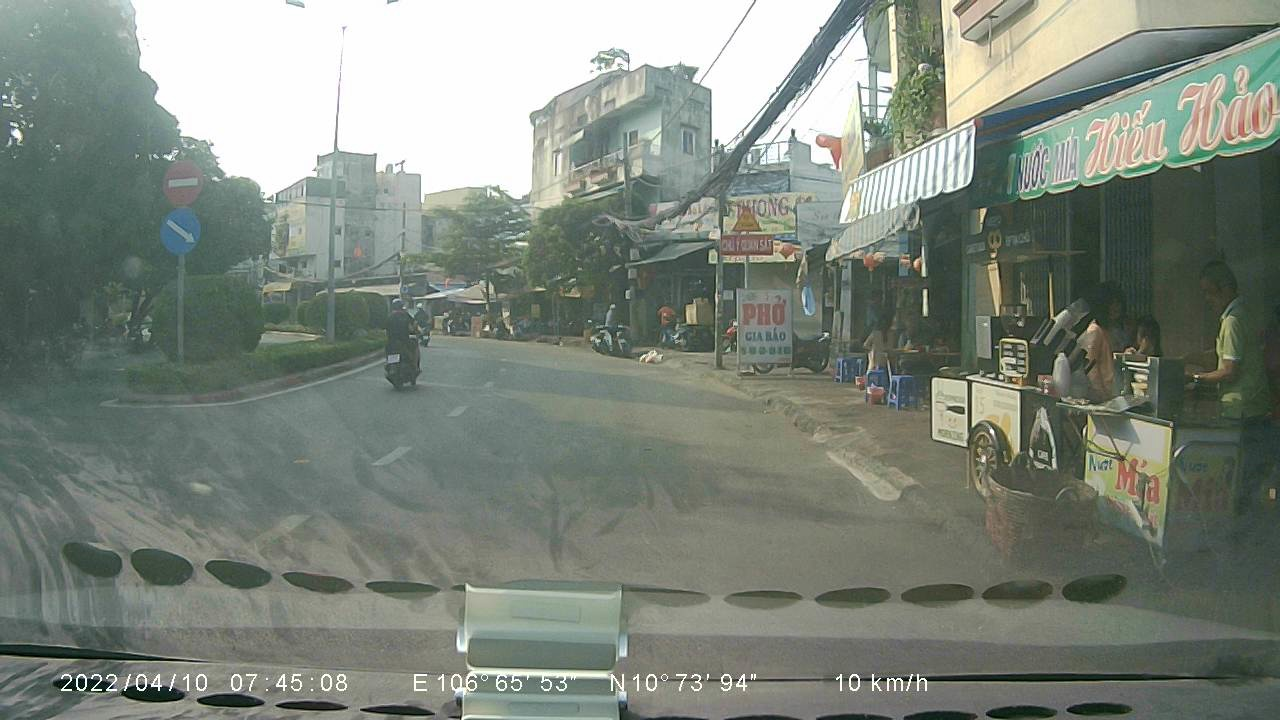Cam di nguoc chieu: (162, 156, 204, 203)
Huong di phai re phai: (157, 205, 202, 255)
